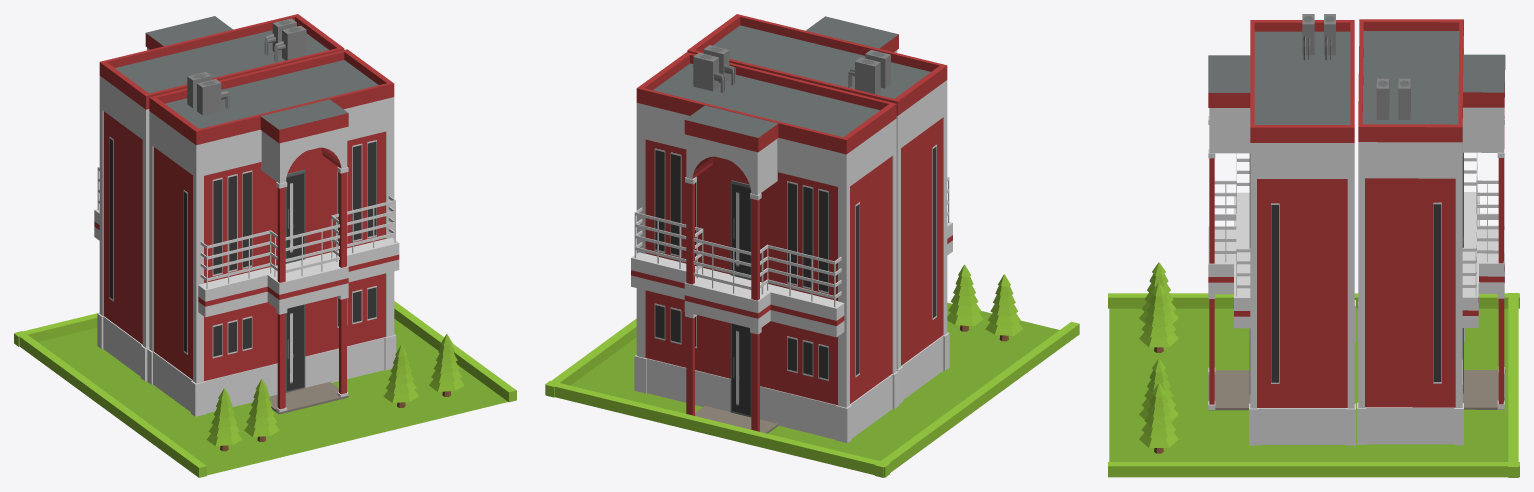
The model's file is apartment.gltf.
3 renders of one model, left to right at view 1: azimuth 30°, elevation 25°; view 2: azimuth 150°, elevation 25°; view 3: azimuth 270°, elevation 25°, orthographic. The views are drawn at different scales.
Parts seen in each view (by area): view 1: Building_House_03_color01_Cylinder.000, Building_House_03_color01_Cylinder.001, Natures_Grass Tile_Plane.010, Natures_Grass Fence_Cube.002, Natures_Grass Fence_Cube.001, Natures_Fir Tree_Cylinder.001, Natures_Fir Tree_Cylinder.002, Natures_Fir Tree_Cylinder.004, Natures_Fir Tree_Cylinder.003, Natures_Grass Fence_Cube.2536; view 2: Building_House_03_color01_Cylinder.001, Building_House_03_color01_Cylinder.000, Natures_Grass Tile_Plane.010, Natures_Grass Fence_Cube.2536, Natures_Grass Fence_Cube.002, Natures_Grass Fence_Cube.001, Natures_Fir Tree_Cylinder.002, Natures_Fir Tree_Cylinder.001; view 3: Building_House_03_color01_Cylinder.001, Building_House_03_color01_Cylinder.000, Natures_Grass Tile_Plane.010, Natures_Grass Fence_Cube.001, Natures_Grass Fence_Cube.2536, Natures_Grass Fence_Cube.002, Natures_Fir Tree_Cylinder.002, Natures_Fir Tree_Cylinder.004, Natures_Fir Tree_Cylinder.003, Natures_Fir Tree_Cylinder.001.
Boxes of the visible parts, <box> form: Building_House_03_color01_Cylinder.000: <box>147,49,399,416</box>; Building_House_03_color01_Cylinder.001: <box>94,14,344,381</box>; Natures_Grass Tile_Plane.010: <box>38,319,507,475</box>; Natures_Grass Fence_Cube.002: <box>15,331,206,477</box>; Natures_Grass Fence_Cube.001: <box>394,301,516,402</box>; Natures_Fir Tree_Cylinder.001: <box>206,388,242,451</box>; Natures_Fir Tree_Cylinder.002: <box>244,379,279,441</box>; Natures_Fir Tree_Cylinder.004: <box>429,334,464,396</box>; Natures_Fir Tree_Cylinder.003: <box>383,345,418,407</box>; Natures_Grass Fence_Cube.2536: <box>14,312,99,346</box>; Building_House_03_color01_Cylinder.001: <box>631,45,898,443</box>; Building_House_03_color01_Cylinder.000: <box>687,14,952,404</box>; Natures_Grass Tile_Plane.010: <box>571,302,1059,461</box>; Natures_Grass Fence_Cube.2536: <box>545,380,889,477</box>; Natures_Grass Fence_Cube.002: <box>875,321,1079,477</box>; Natures_Grass Fence_Cube.001: <box>545,318,636,397</box>; Natures_Fir Tree_Cylinder.002: <box>947,264,983,331</box>; Natures_Fir Tree_Cylinder.001: <box>985,274,1022,341</box>; Building_House_03_color01_Cylinder.001: <box>1357,19,1505,445</box>; Building_House_03_color01_Cylinder.000: <box>1208,14,1355,445</box>; Natures_Grass Tile_Plane.010: <box>1109,308,1508,461</box>; Natures_Grass Fence_Cube.001: <box>1108,462,1519,477</box>; Natures_Grass Fence_Cube.2536: <box>1508,293,1518,477</box>; Natures_Grass Fence_Cube.002: <box>1108,293,1519,308</box>; Natures_Fir Tree_Cylinder.002: <box>1139,283,1178,352</box>; Natures_Fir Tree_Cylinder.004: <box>1139,383,1178,453</box>; Natures_Fir Tree_Cylinder.003: <box>1139,358,1178,419</box>; Natures_Fir Tree_Cylinder.001: <box>1139,262,1178,323</box>.
Bounding box in the file's own units: 40.25 × 37.64 × 40.25.
Materials: 9 (8 with a texture image).
